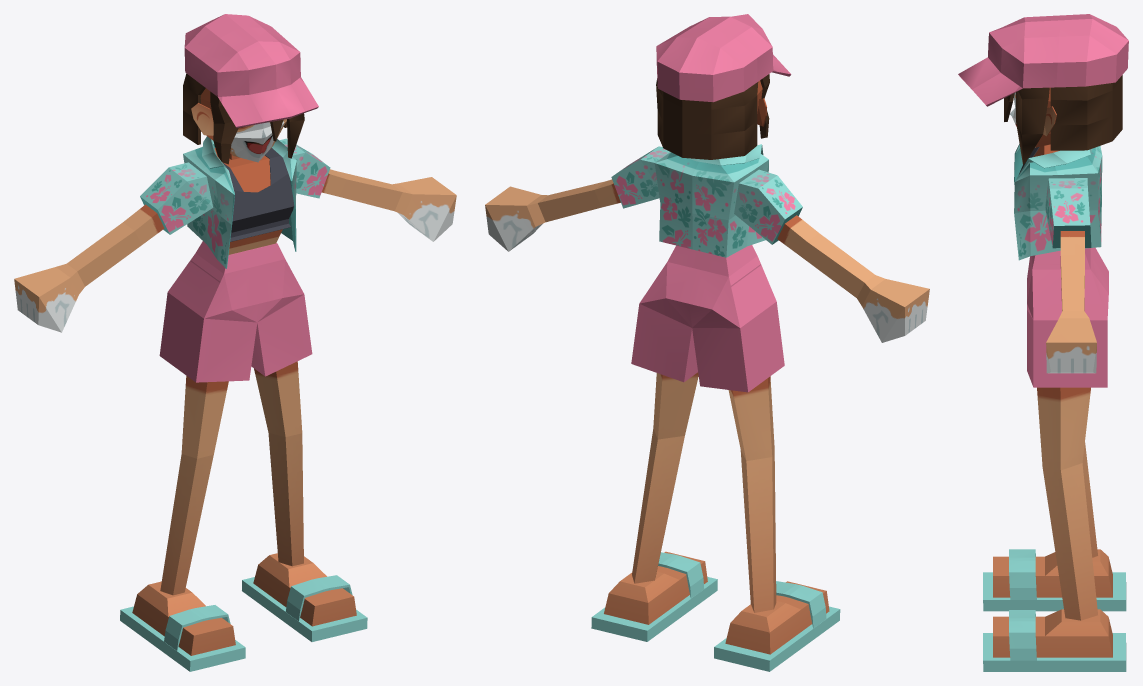
File: Melee Zombie Female.glb
3 renders of one model, left to right at view 1: azimuth 30°, elevation 25°; view 2: azimuth 150°, elevation 25°; view 3: azimuth 270°, elevation 25°, orthographic.
Parts seen in each view (by area): view 1: hat, Skirt Legging right, Female Songkran.001, Lower_Right_Leg, Short.002, Skirt Legging left, Lower_Left_Leg, Right_ Foot, Bra.001, Left_Foot, Right_Hand, Female Songkran Right.001 (+13 smaller); view 2: Skirt Legging right, Female Songkran.001, hat, hair, Lower_Right_Leg, Skirt Legging left, Lower_Left_Leg, Short.002, Right_ Foot, Left_Foot, Right_Hand, Right__Flipflop.002 (+9 smaller); view 3: hat, hair, Female Songkran.001, Skirt Legging left, Lower_Left_Leg, Left__Flipflop.001, Left_Foot, Upper_Left_Leg.001, Right__Flipflop.002, Left_Hand, Female Songkran Left.001, Right_ Foot (+5 smaller).
Boxes of the visible parts, x1=… form: hat: x1=184, y1=14, x2=318, y2=127; Skirt Legging right: x1=159, y1=253, x2=257, y2=382; Female Songkran.001: x1=183, y1=136, x2=296, y2=268; Lower_Right_Leg: x1=160, y1=454, x2=213, y2=595; Short.002: x1=196, y1=241, x2=285, y2=322; Skirt Legging left: x1=251, y1=259, x2=312, y2=376; Lower_Left_Leg: x1=268, y1=432, x2=303, y2=566; Right_ Foot: x1=132, y1=581, x2=235, y2=655; Bra.001: x1=222, y1=147, x2=294, y2=241; Left_Foot: x1=253, y1=553, x2=356, y2=626; Right_Hand: x1=14, y1=263, x2=84, y2=332; Female Songkran Right.001: x1=140, y1=162, x2=213, y2=234; Skirt Legging right: x1=692, y1=256, x2=784, y2=392; Female Songkran.001: x1=654, y1=144, x2=768, y2=257; hat: x1=656, y1=14, x2=791, y2=102; hair: x1=656, y1=74, x2=769, y2=159; Lower_Right_Leg: x1=740, y1=450, x2=776, y2=612; Skirt Legging left: x1=631, y1=262, x2=697, y2=382; Lower_Left_Leg: x1=632, y1=428, x2=684, y2=583; Short.002: x1=666, y1=245, x2=757, y2=327; Right_ Foot: x1=725, y1=581, x2=829, y2=654; Left_Foot: x1=604, y1=551, x2=707, y2=624; Right_Hand: x1=857, y1=275, x2=929, y2=342; Right__Flipflop.002: x1=714, y1=581, x2=840, y2=671; hat: x1=958, y1=14, x2=1128, y2=106; hair: x1=1004, y1=75, x2=1122, y2=164; Female Songkran.001: x1=1014, y1=144, x2=1102, y2=260; Skirt Legging left: x1=1027, y1=269, x2=1108, y2=387; Lower_Left_Leg: x1=1042, y1=463, x2=1097, y2=620; Left__Flipflop.001: x1=983, y1=610, x2=1126, y2=671; Left_Foot: x1=993, y1=609, x2=1112, y2=657; Upper_Left_Leg.001: x1=1037, y1=387, x2=1090, y2=470; Right__Flipflop.002: x1=983, y1=549, x2=1126, y2=611; Left_Hand: x1=1046, y1=311, x2=1096, y2=373; Female Songkran Left.001: x1=1045, y1=178, x2=1091, y2=248; Right_ Foot: x1=993, y1=549, x2=1112, y2=597.
Size of the model in its own units: 1.28 by 1.75 by 0.4439.
Materials: 8 (8 with a texture image).
